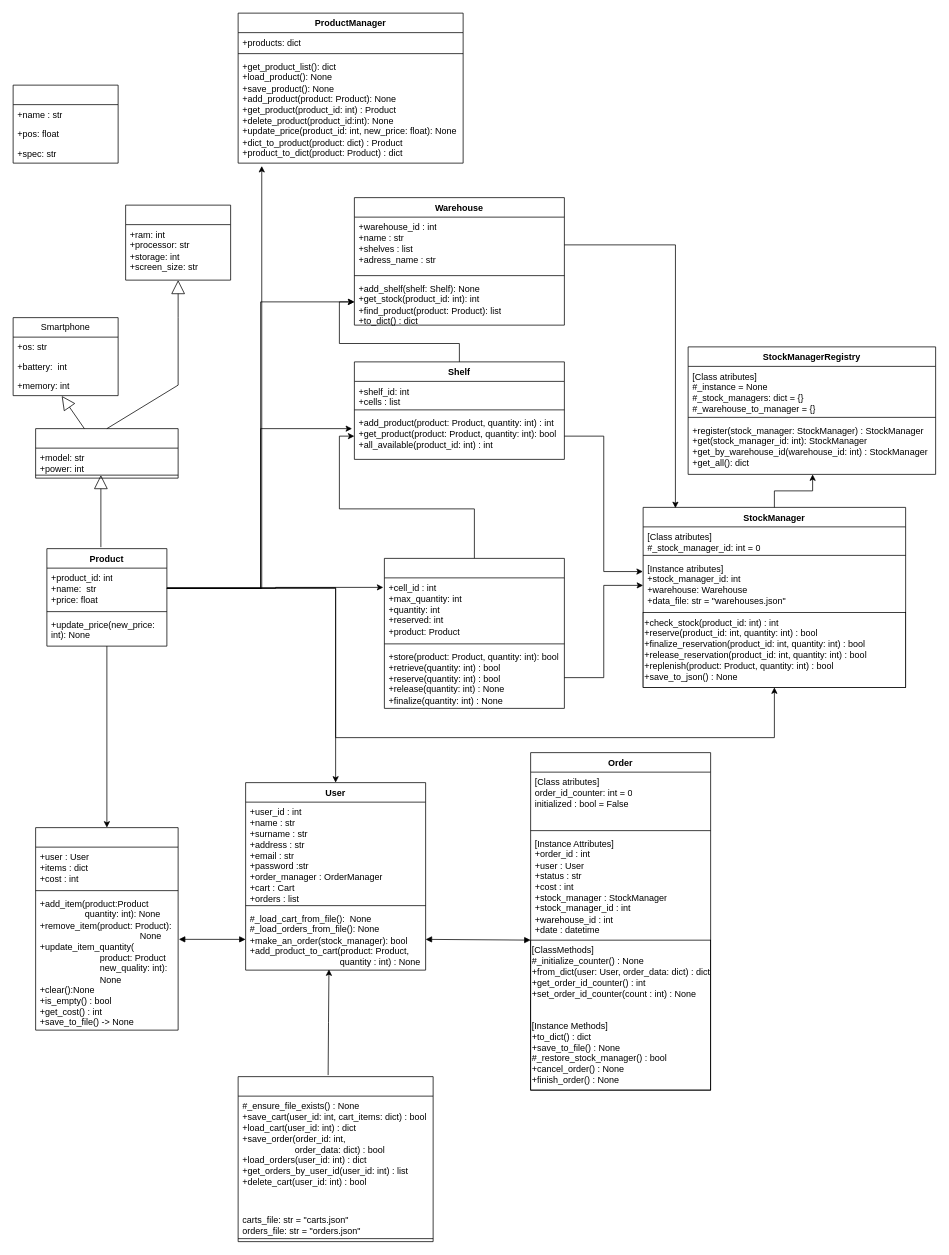
Image size: 949x1255. Some labels were removed from this diagram. The box of each missing label's shape, as (x1, y1, x2, y2) in pixels:
Adress: (12, 84, 118, 163)
Cart: (35, 827, 178, 1030)
Electronic: (35, 428, 178, 478)
Laptop: (125, 204, 231, 280)
OrderManager: (237, 1076, 433, 1242)
ShelfCell: (384, 558, 564, 708)
